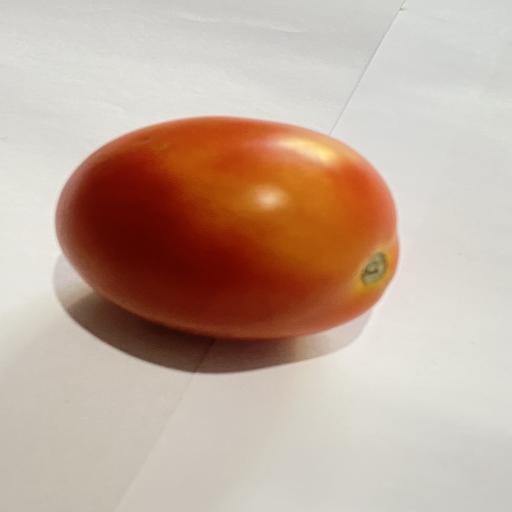ripe: (56, 117, 399, 339)
